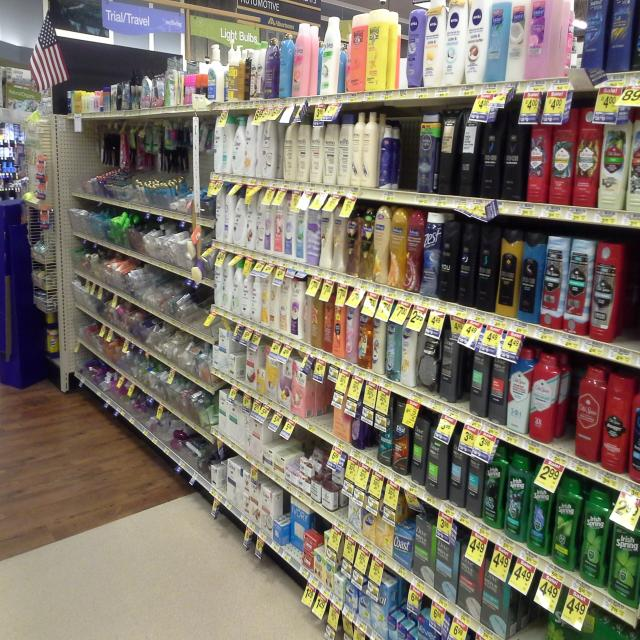empty: (384, 105, 426, 201), (303, 364, 339, 446)
